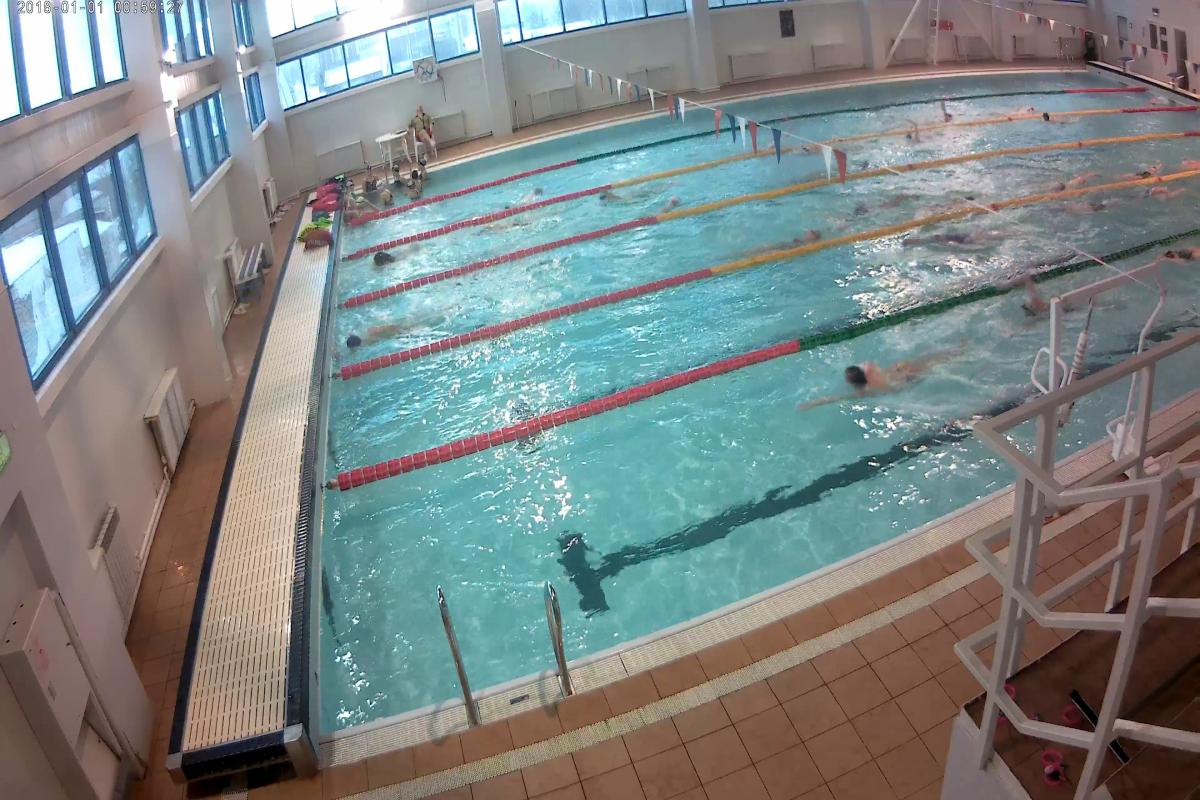swimmer: (822, 354, 955, 400), (914, 228, 1029, 250), (340, 323, 407, 354), (1003, 296, 1052, 320), (1057, 202, 1119, 214)
